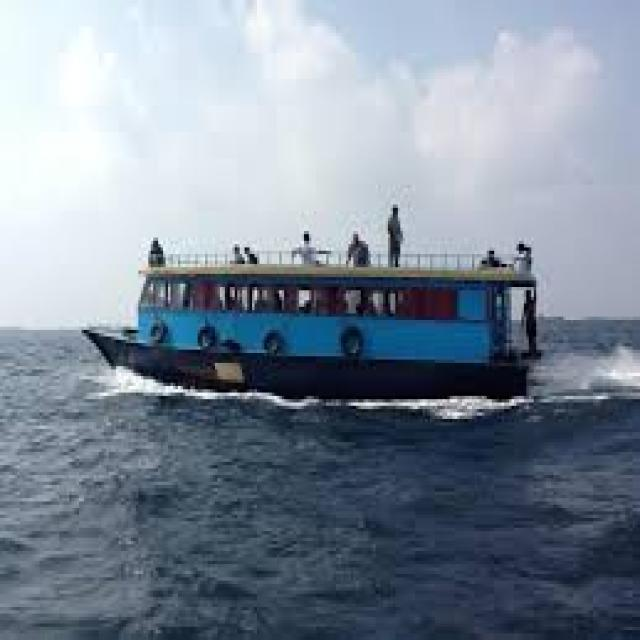fishing boat: (91, 219, 537, 401)
